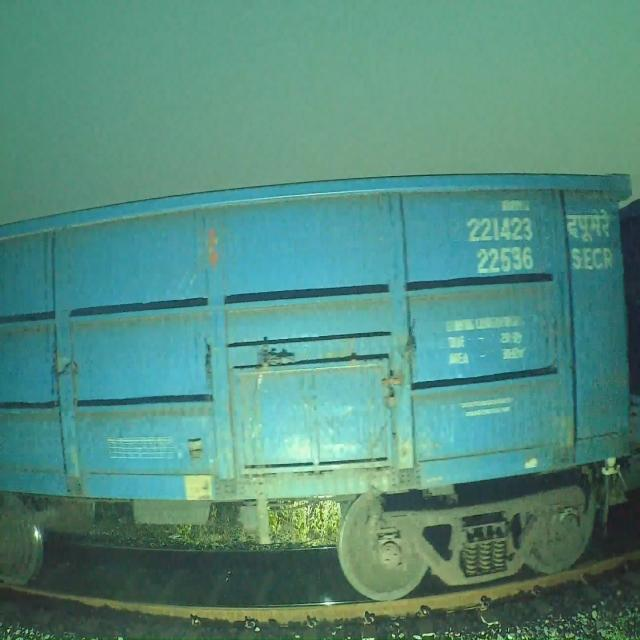WAgon-uic: (0, 168, 637, 602)
uic: (464, 212, 541, 277)
